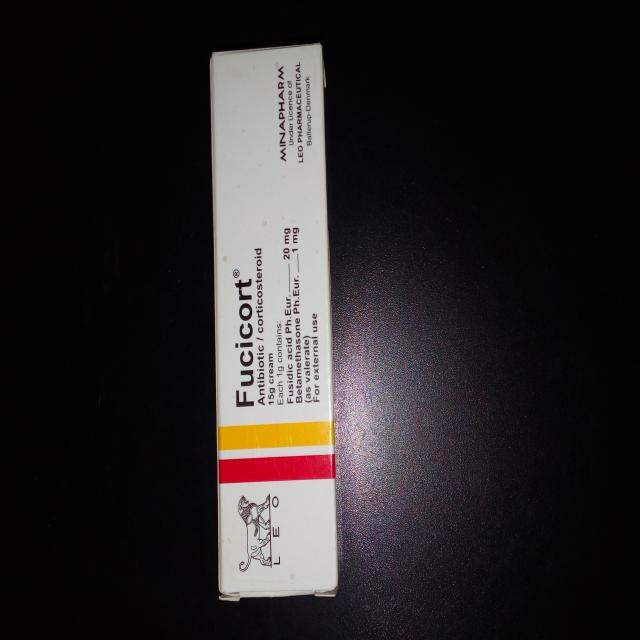Medicine: (207, 39, 344, 603)
